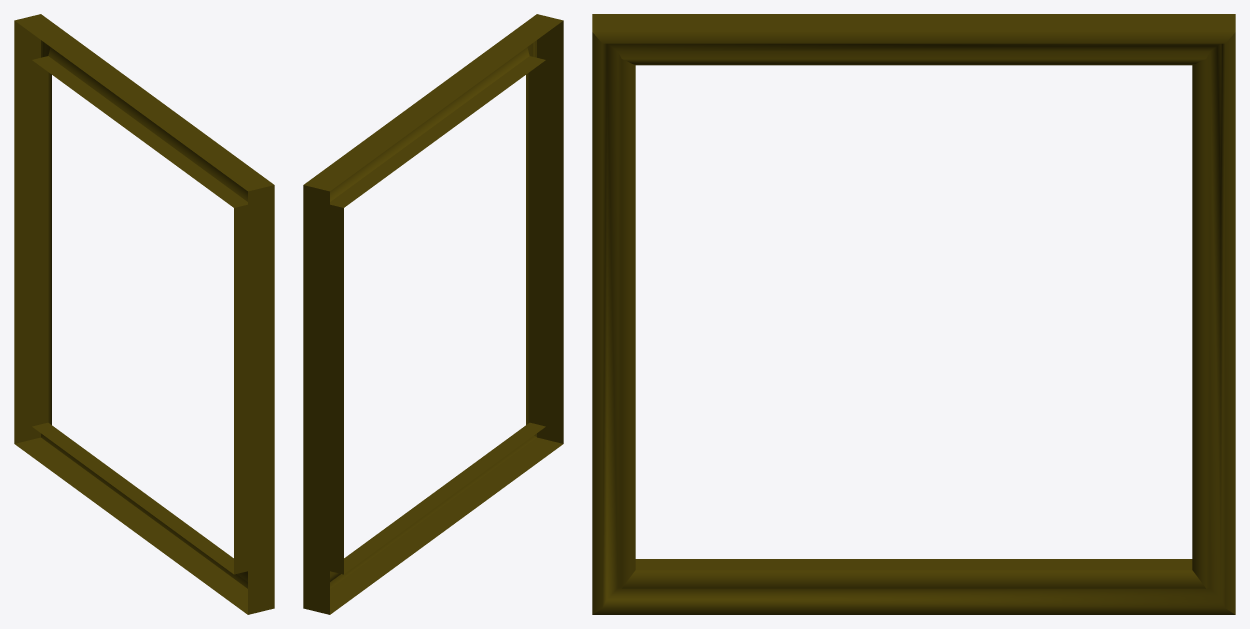
File: Frame.fbx
3 renders of one model, left to right at view 1: azimuth 30°, elevation 25°; view 2: azimuth 150°, elevation 25°; view 3: azimuth 270°, elevation 25°, orthographic. The views are drawn at different scales.
Parts seen in each view (by area): view 1: pCube1; view 2: pCube1; view 3: pCube1.
Boxes of the visible parts, left/top/right/bottom form: pCube1: left=14, top=14, right=274, bottom=614; pCube1: left=303, top=14, right=563, bottom=614; pCube1: left=592, top=14, right=1235, bottom=614.
Bounding box in the file's own units: 0.075 × 1 × 1.
